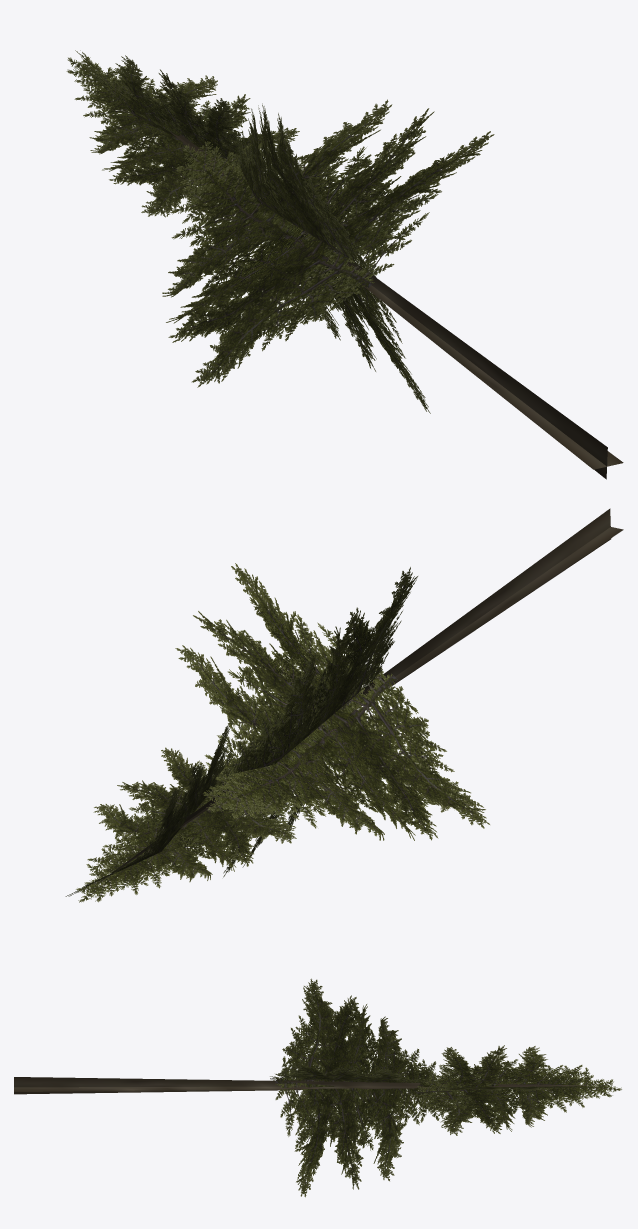
File: MEP_Con_01_b_LOD_02.fbx
3 views of the same model, one above another, from view 1: azimuth 30°, elevation 25°; view 2: azimuth 150°, elevation 25°; view 3: azimuth 270°, elevation 25° (orthographic). The views are drawn at different scales.
Visible parts, largest first — view 1: MEP_Con_01_b_LOD_02; view 2: MEP_Con_01_b_LOD_02; view 3: MEP_Con_01_b_LOD_02.
Boxes of the visible parts, left/top/right/bottom form: MEP_Con_01_b_LOD_02: left=66, top=50, right=623, bottom=479; MEP_Con_01_b_LOD_02: left=65, top=508, right=623, bottom=902; MEP_Con_01_b_LOD_02: left=14, top=978, right=621, bottom=1197.
Size of the model in its own units: 9.07 by 10.04 by 26.96.
